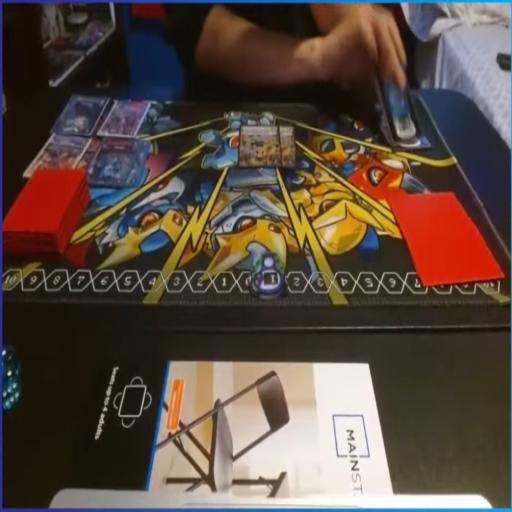card: (23, 122, 89, 183), (85, 130, 141, 188), (237, 126, 281, 178), (59, 95, 109, 136), (102, 101, 152, 140), (124, 138, 151, 189), (280, 122, 299, 177)
